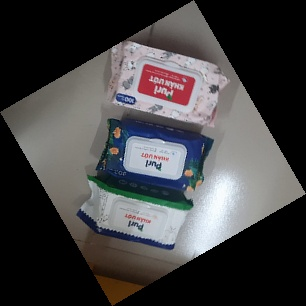Puri Trang: (75, 172, 194, 250)
Puri Xanh: (94, 116, 215, 192)
Puri hong: (103, 39, 231, 129)
